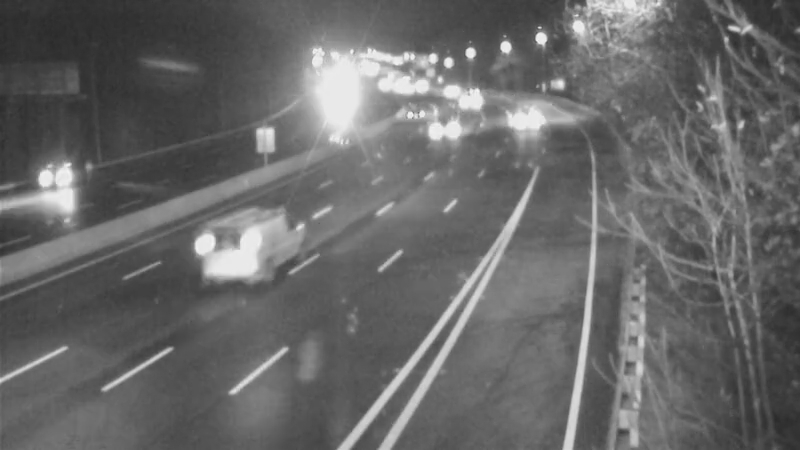vehicle: (181, 214, 261, 294), (17, 137, 97, 217), (427, 71, 477, 121), (444, 79, 494, 129), (386, 93, 436, 143), (494, 97, 544, 147), (419, 103, 469, 153)
